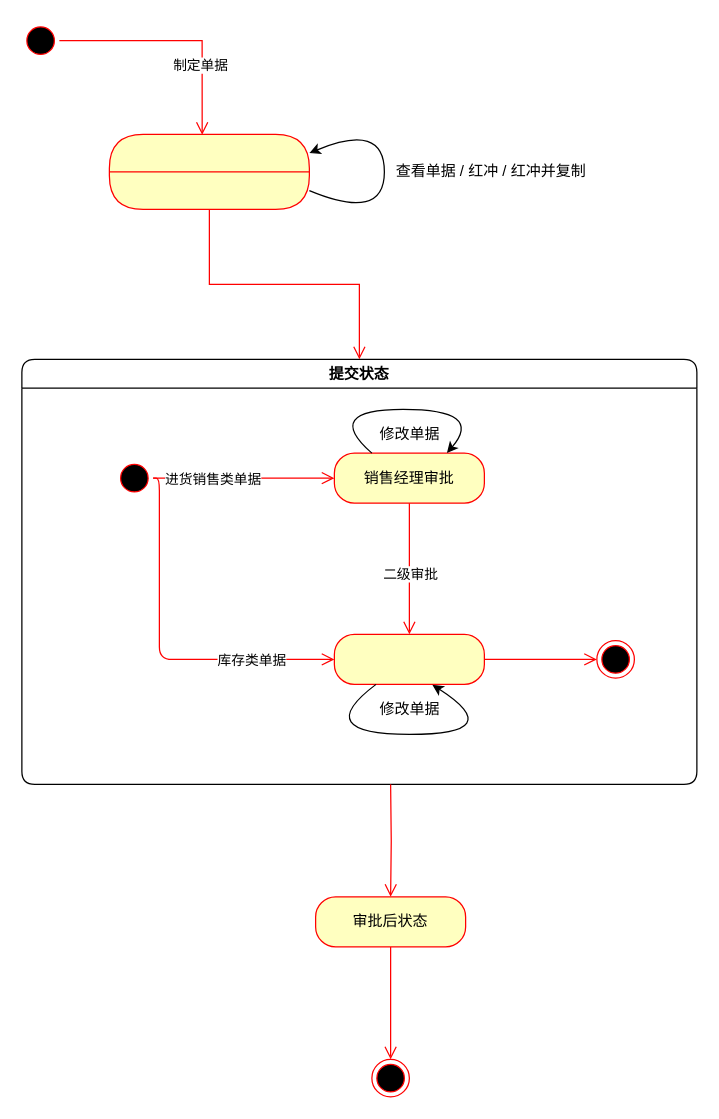
Image size: 719x1119. Some labels were removed from this diagram. The centre of each missing label's shape, as x and y in pixels:
"总经理审批" belongs at pixel 408 658.
"草稿状态" belongs at pixel 208 171.
